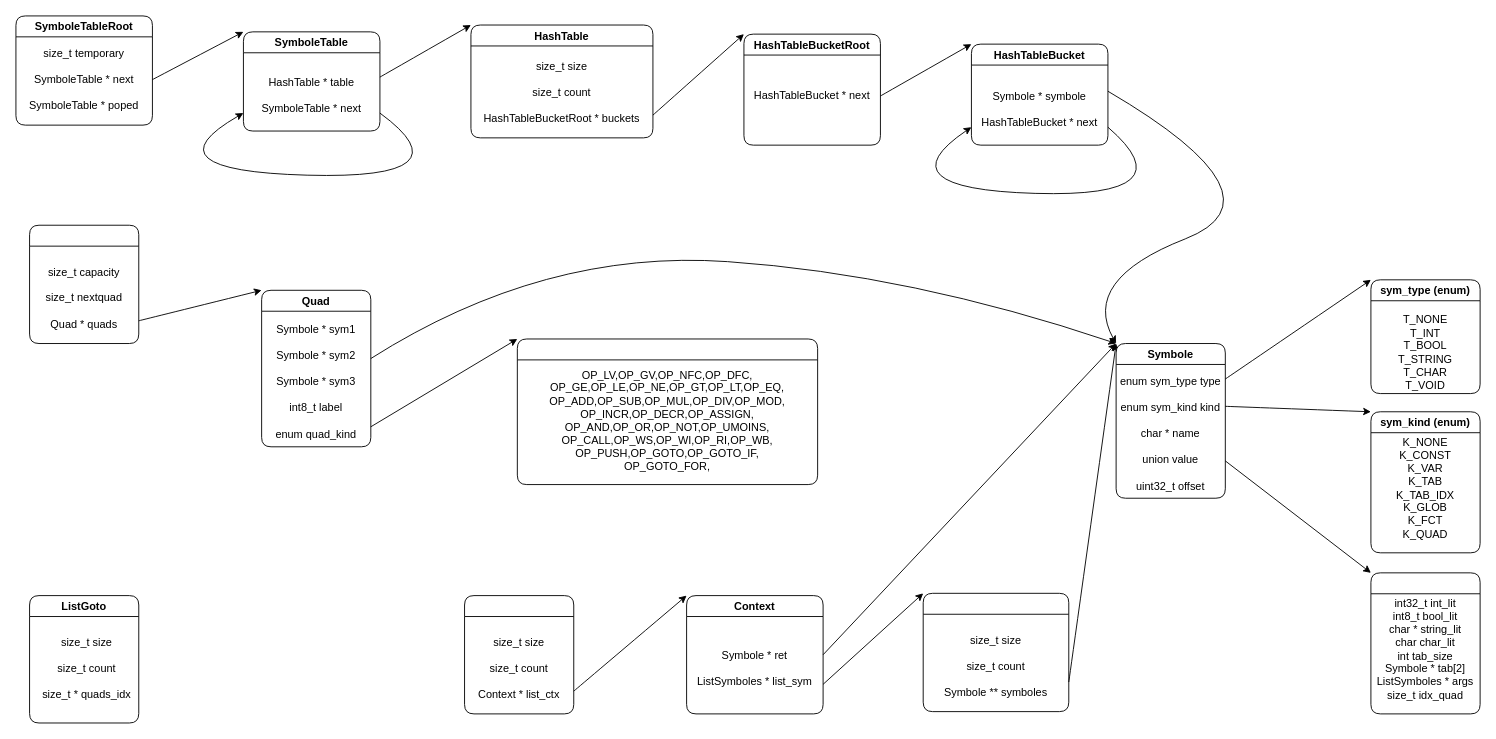
The diagram is 1496 pixels wide and 739 high, and some of its shapes have lost their labels. The shapes that lost their labels are listed below. From the top down, each one's box as (x1, y1, x2, y2) in pixels, then its label:
(29, 224, 139, 344): Code
(516, 338, 818, 485): quad_kind (enum)
(464, 595, 574, 714): FunctionsContexts
(922, 592, 1069, 712): ListSymboles
(1370, 572, 1480, 714): value (union)
